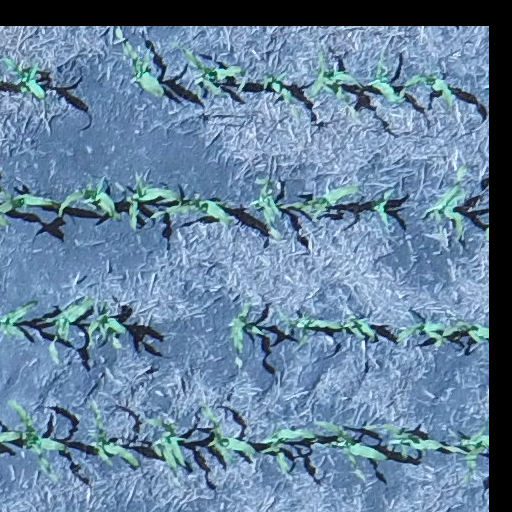planta: (312, 418, 390, 485), (8, 399, 75, 472), (361, 421, 472, 464), (417, 162, 476, 241), (34, 294, 96, 367), (197, 402, 259, 468), (113, 26, 168, 99), (122, 172, 186, 234), (134, 415, 199, 476), (85, 400, 141, 470), (178, 43, 247, 99), (275, 181, 361, 223), (54, 174, 124, 222), (258, 424, 324, 474), (307, 47, 364, 100), (147, 195, 233, 226), (398, 71, 456, 111), (227, 298, 269, 353), (367, 52, 409, 105), (83, 306, 130, 351), (253, 175, 285, 241), (292, 314, 345, 353), (391, 318, 449, 348), (258, 69, 299, 104), (368, 185, 397, 228), (341, 314, 380, 342)
